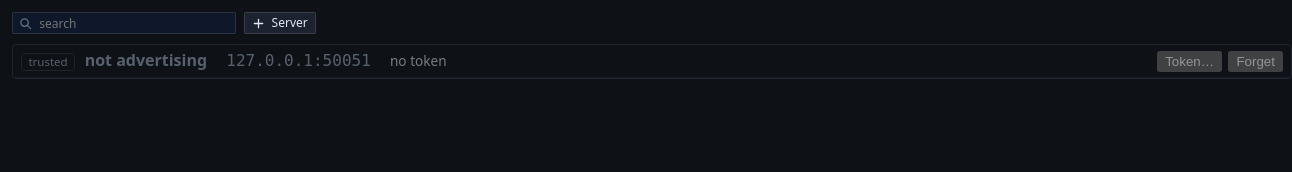
the trust lifecycle from a row › says what keeps a row in the list when forgetting it stored nothing
Expected: the text "127.0.0.1:50051" is shown, [226,51,371,70]
Click the button with aria-label "forget 127.0.0.1:50051" at coordinates (1256, 62), box [1228,51,1283,72]
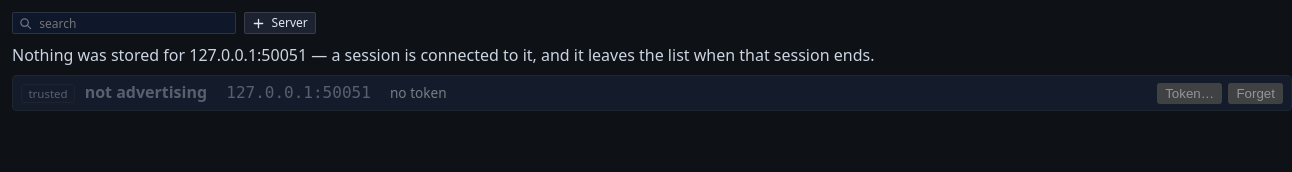
Now the text "Nothing was stored for 127.0.0.1:50051" shows "session is connected to it", box [12,44,874,66]
